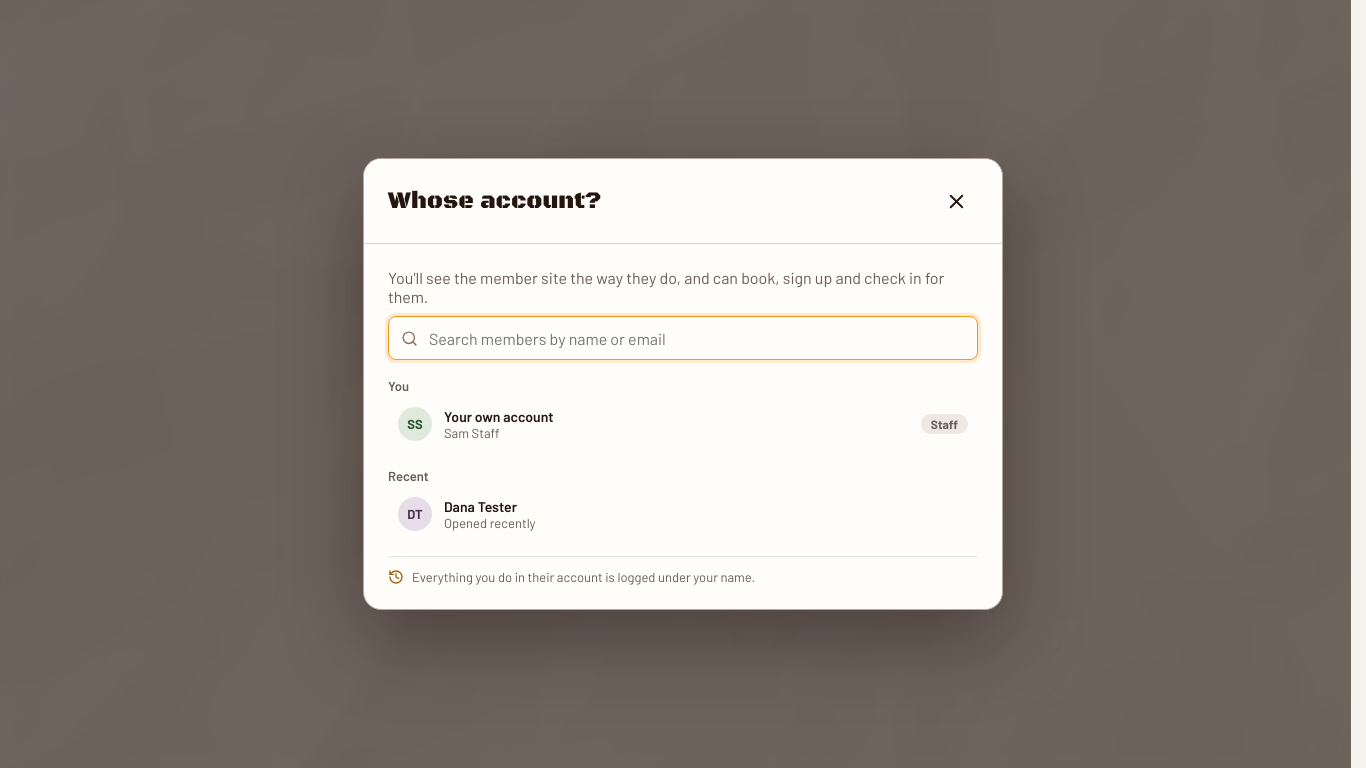
Scenario: a failed switch still shows its error and stays open
Click the button "DT Dana Tester Opened recently" at (415, 514), box x1=388 y1=488 x2=978 y2=540
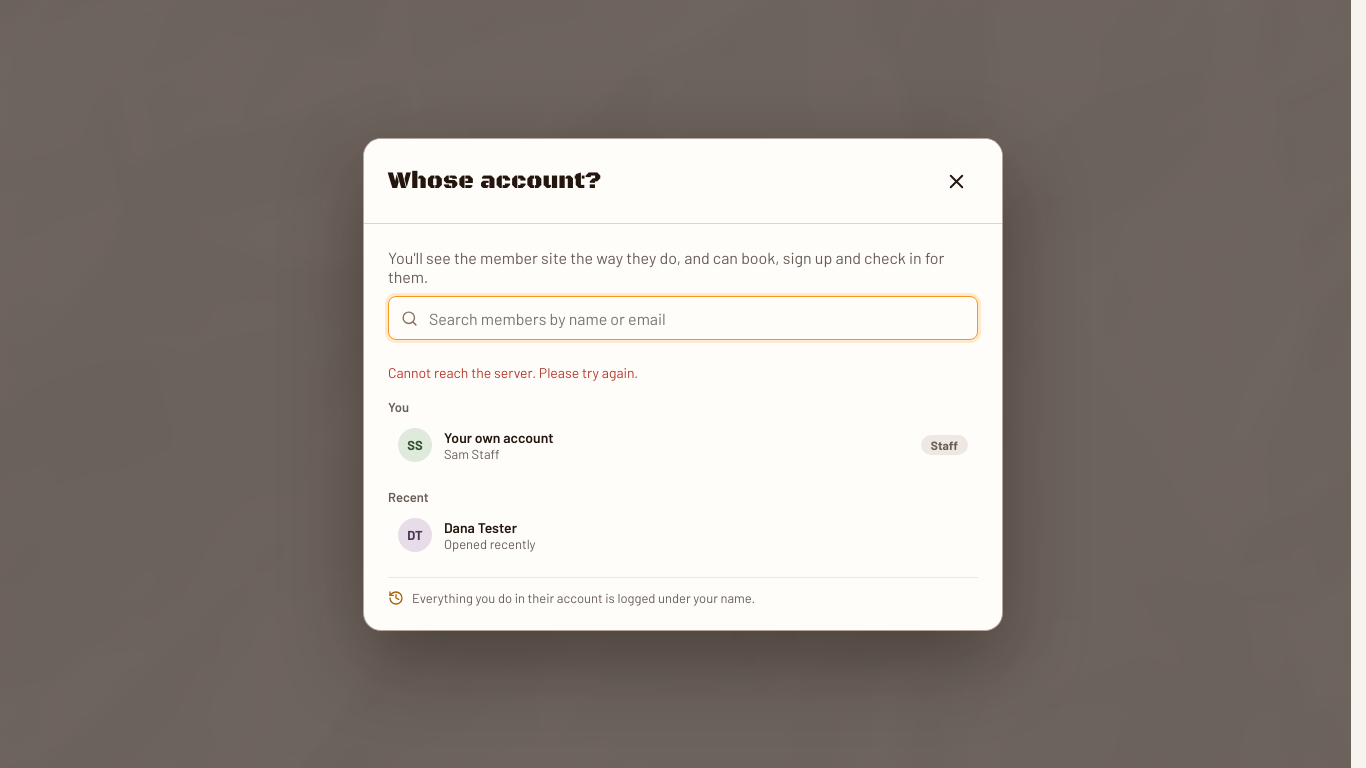
Now the message "Cannot reach the server. Please try again." is shown, box x1=388 y1=364 x2=638 y2=380
